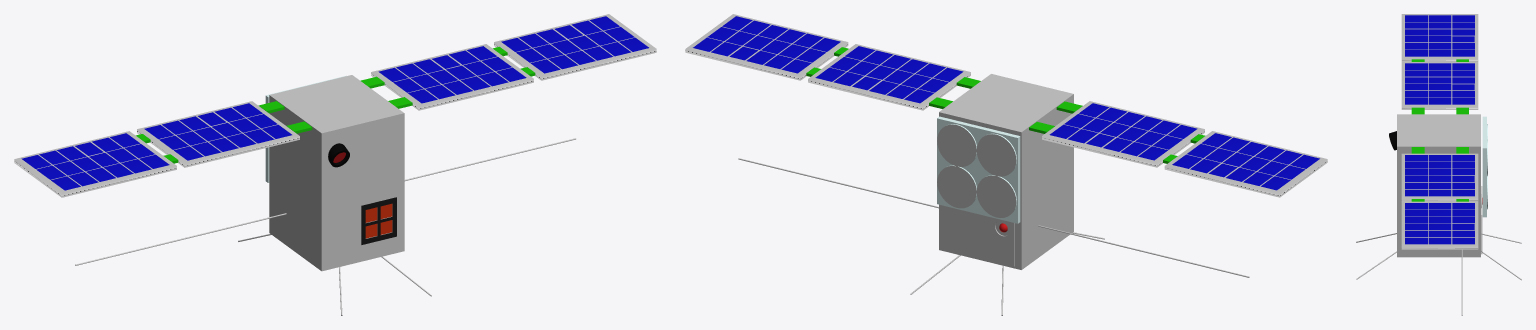
The picture shows the model from 3 angles, left to right: view 1: azimuth 30°, elevation 25°; view 2: azimuth 150°, elevation 25°; view 3: azimuth 270°, elevation 25°; orthographic projection. The views are drawn at different scales.
Visible parts, largest first — view 1: Battery1, Cube, Ginge, Circle.004; view 2: Battery1, Cube, upper, lower, Ginge, Circle.004; view 3: Battery1, Cube, upper, Ginge, lower, Circle.003.
Part boxes in pixels (x1,y1,x2,y2): Battery1: (14,14,656,197); Cube: (269,75,404,271); Ginge: (136,46,535,163); Circle.004: (75,213,286,265); Battery1: (685,14,1327,197); Cube: (939,74,1073,269); upper: (937,116,1020,223); lower: (940,205,1014,266); Ginge: (806,47,1205,163); Circle.004: (1038,225,1249,277); Battery1: (1401,14,1478,249); Cube: (1397,114,1480,257); upper: (1482,116,1487,217); Ginge: (1411,59,1468,201); lower: (1481,186,1482,254); Circle.003: (1461,249,1462,315).
Bounding box in the file's own units: 48.89 × 13.02 × 14.74.
